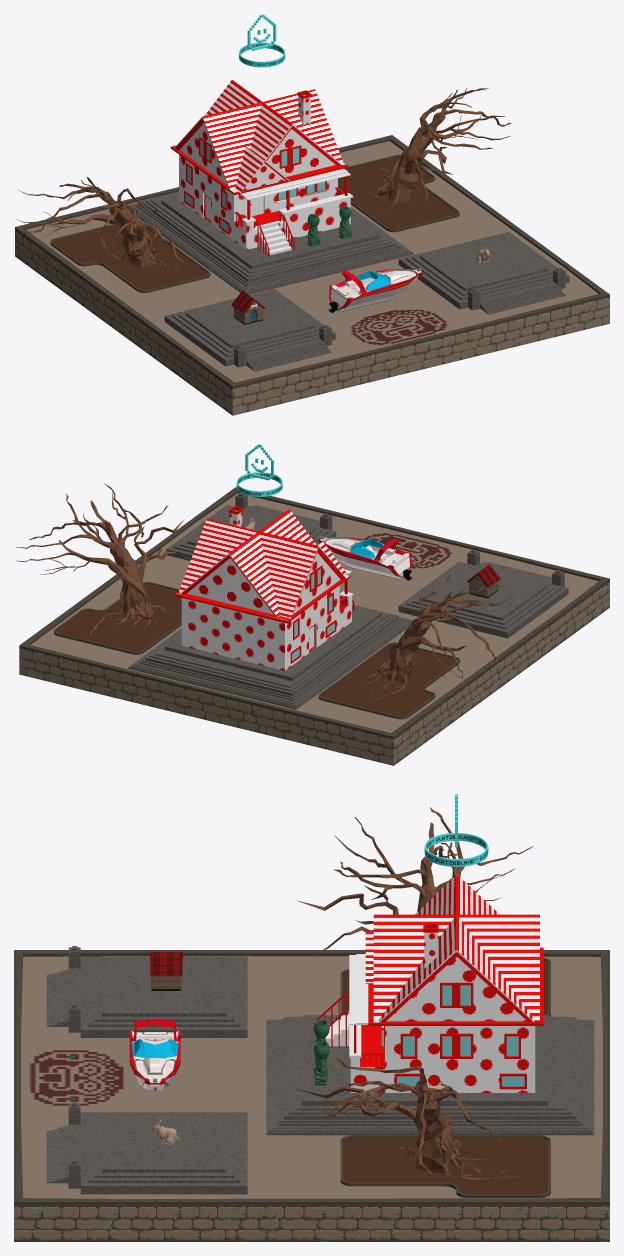
3 renders of one model, top to bottom at view 1: azimuth 30°, elevation 25°; view 2: azimuth 150°, elevation 25°; view 3: azimuth 270°, elevation 25°, orthographic. The views are drawn at different scales.
Visible parts, largest first — view 1: Cube.011, Cube.196, VEHICLES_BOAT, TYPE_PREMIUM, OBJRANDOM_DOGHOUSE; view 2: Cube.011, Cube.196, VEHICLES_BOAT, TYPE_PREMIUM, OBJRANDOM_DOGHOUSE; view 3: Cube.011, Cube.196, VEHICLES_BOAT, OBJRANDOM_DOGHOUSE, TYPE_PREMIUM.
Boxes of the visible parts, <box> form: Cube.011: <box>15,87,609,415</box>; Cube.196: <box>170,80,353,256</box>; VEHICLES_BOAT: <box>328,268,422,313</box>; TYPE_PREMIUM: <box>239,14,285,67</box>; OBJRANDOM_DOGHOUSE: <box>231,290,265,324</box>; Cube.011: <box>16,483,609,765</box>; Cube.196: <box>174,506,354,670</box>; VEHICLES_BOAT: <box>319,536,412,580</box>; TYPE_PREMIUM: <box>236,444,282,496</box>; OBJRANDOM_DOGHOUSE: <box>467,564,500,598</box>; Cube.011: <box>14,807,609,1241</box>; Cube.196: <box>317,875,543,1092</box>; VEHICLES_BOAT: <box>129,1019,180,1091</box>; OBJRANDOM_DOGHOUSE: <box>150,952,182,990</box>; TYPE_PREMIUM: <box>424,794,488,866</box>.
Size of the model in its own units: 5099 by 2466 by 4000.
Materials: 36 (7 with a texture image).
